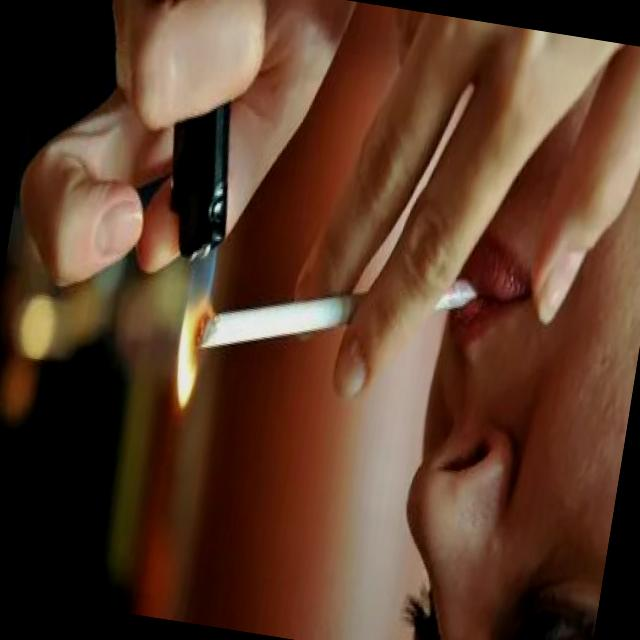cigarette: (179, 210, 491, 403)
